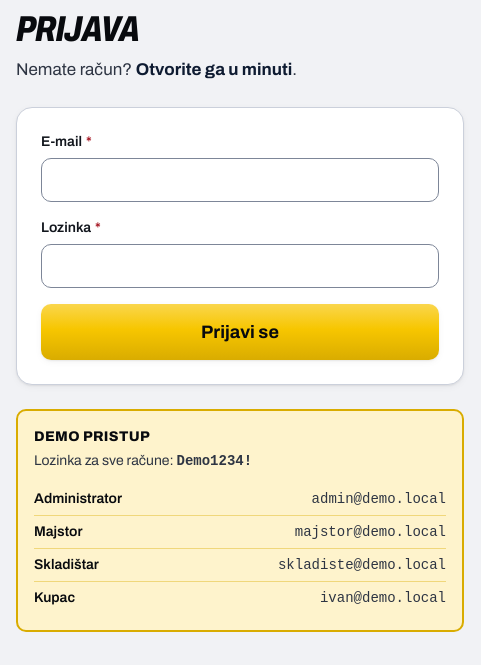
Test: obrazac za prijavu › mrežni ispad ne ostavlja korisnika bez poruke
In the field labelled "E-mail*": (240, 180) [41, 158, 439, 202], type "ivan@demo.local"
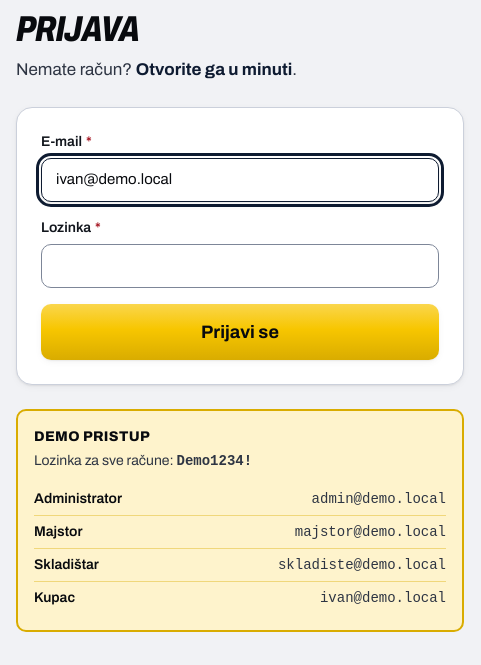
In the password field labelled "Lozinka*": (240, 266) [41, 244, 439, 288], type "Demo1234!"
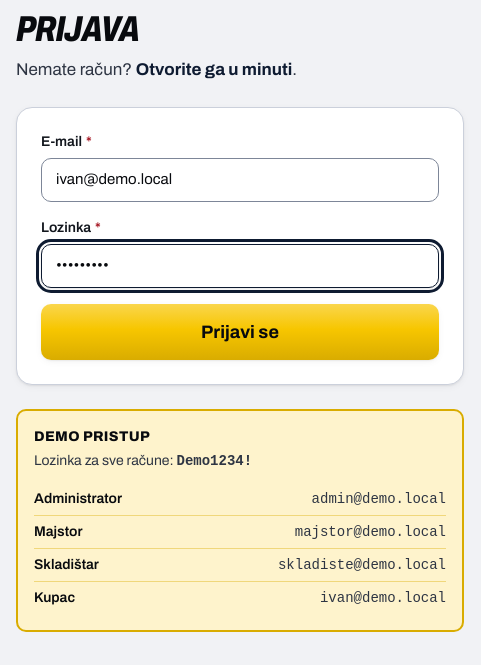
Click the button "Prijavi se": (240, 332) [41, 304, 439, 360]
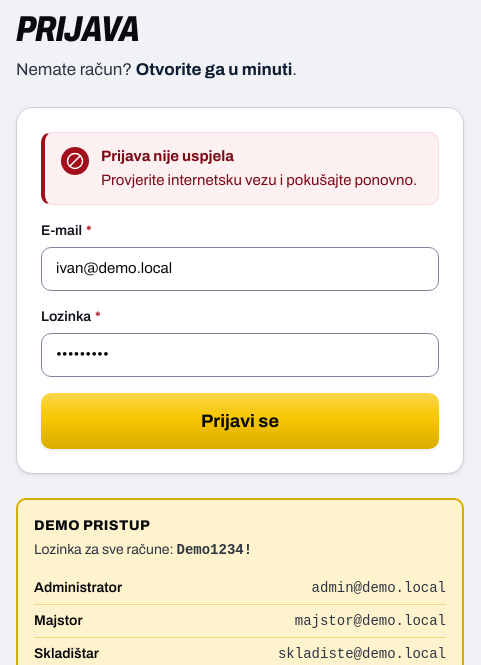
Now the text "Provjerite internetsku vezu i pokušajte ponovno." is shown, box [101, 169, 417, 192]
